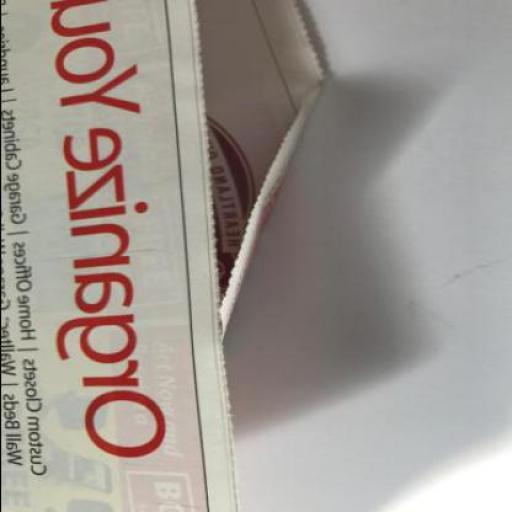paper: (2, 1, 242, 511), (193, 2, 325, 344)
